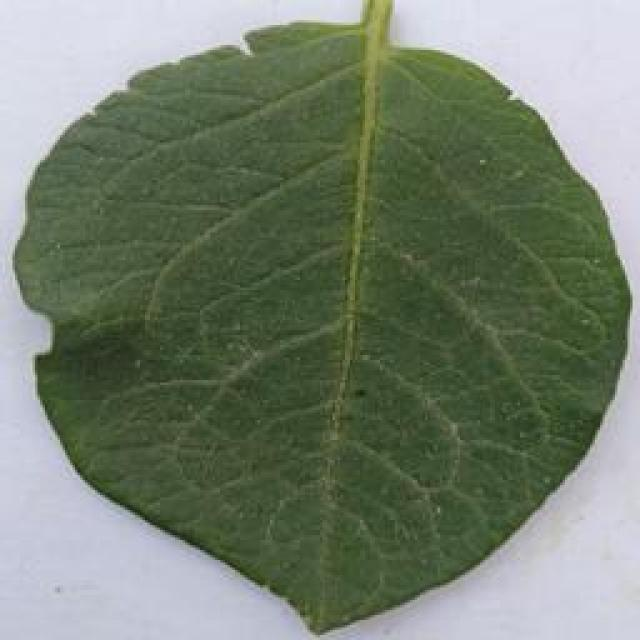Potato_Healthy: (7, 9, 637, 632)
